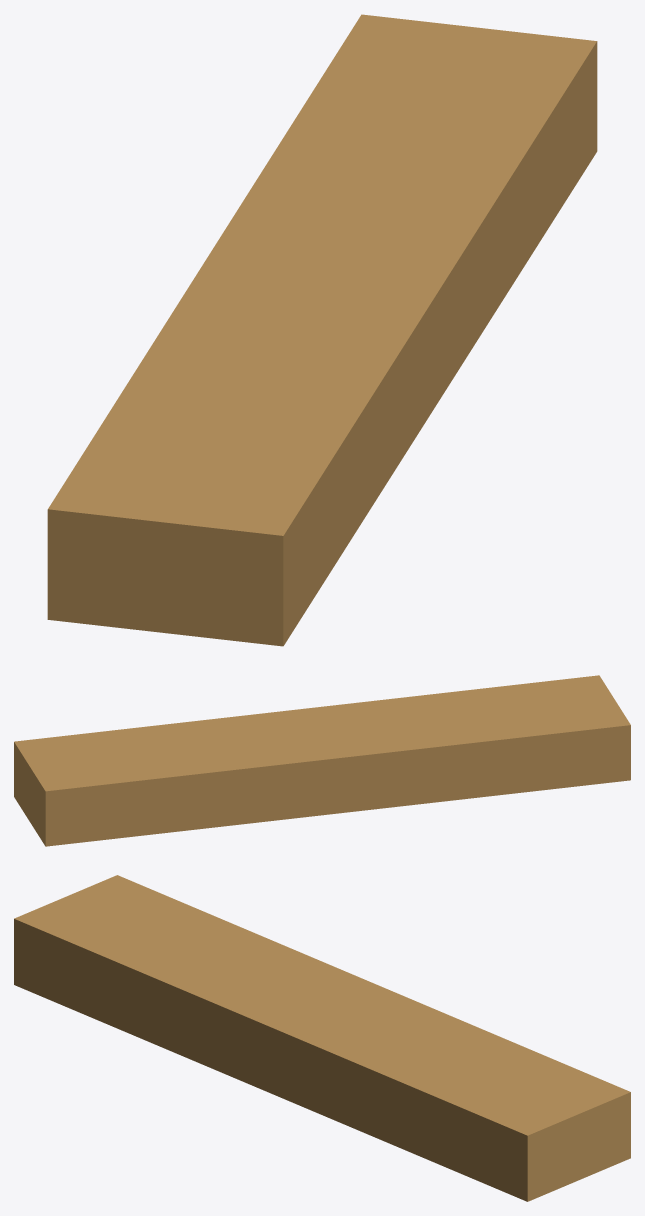
3 views of the same model, one above another, from view 1: azimuth 30°, elevation 25°; view 2: azimuth 150°, elevation 25°; view 3: azimuth 270°, elevation 25° (orthographic). The views are drawn at different scales.
Visible parts, largest first — view 1: RUN-019-S01-NOG-01; view 2: RUN-019-S01-NOG-01; view 3: RUN-019-S01-NOG-01.
Part boxes in pixels (x1=…): RUN-019-S01-NOG-01: x1=47, y1=14, x2=597, y2=646; RUN-019-S01-NOG-01: x1=14, y1=675, x2=630, y2=846; RUN-019-S01-NOG-01: x1=14, y1=875, x2=630, y2=1201.
Size of the model in its own units: 0.3799 by 0.045 by 0.3799.
